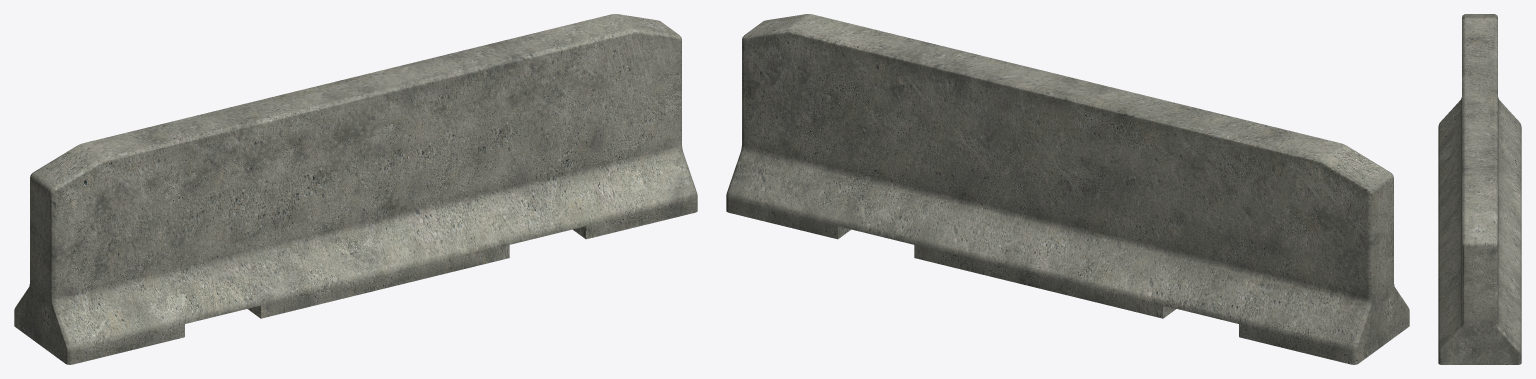
The model's file is concrete_barrier_-_low_poly_game_ready.glb.
The picture shows the model from 3 angles, left to right: view 1: azimuth 30°, elevation 25°; view 2: azimuth 150°, elevation 25°; view 3: azimuth 270°, elevation 25°; orthographic projection. The views are drawn at different scales.
Parts seen in each view (by area): view 1: BarrierConcrete; view 2: BarrierConcrete; view 3: BarrierConcrete.
Boxes of the visible parts, x1,y1,x2,y2 form: BarrierConcrete: (14,14,697,364); BarrierConcrete: (726,14,1409,364); BarrierConcrete: (1438,14,1521,364).
Bounding box in the file's own units: 3.75 × 1.03 × 0.5737.
Materials: 1 (1 with a texture image).
